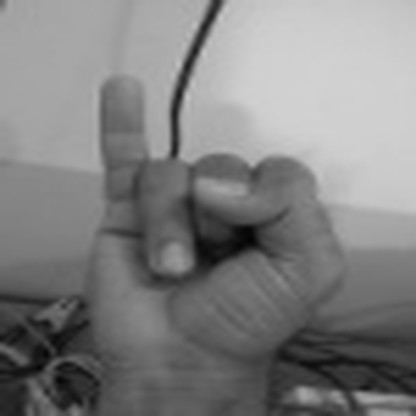i: (83, 67, 351, 375)
